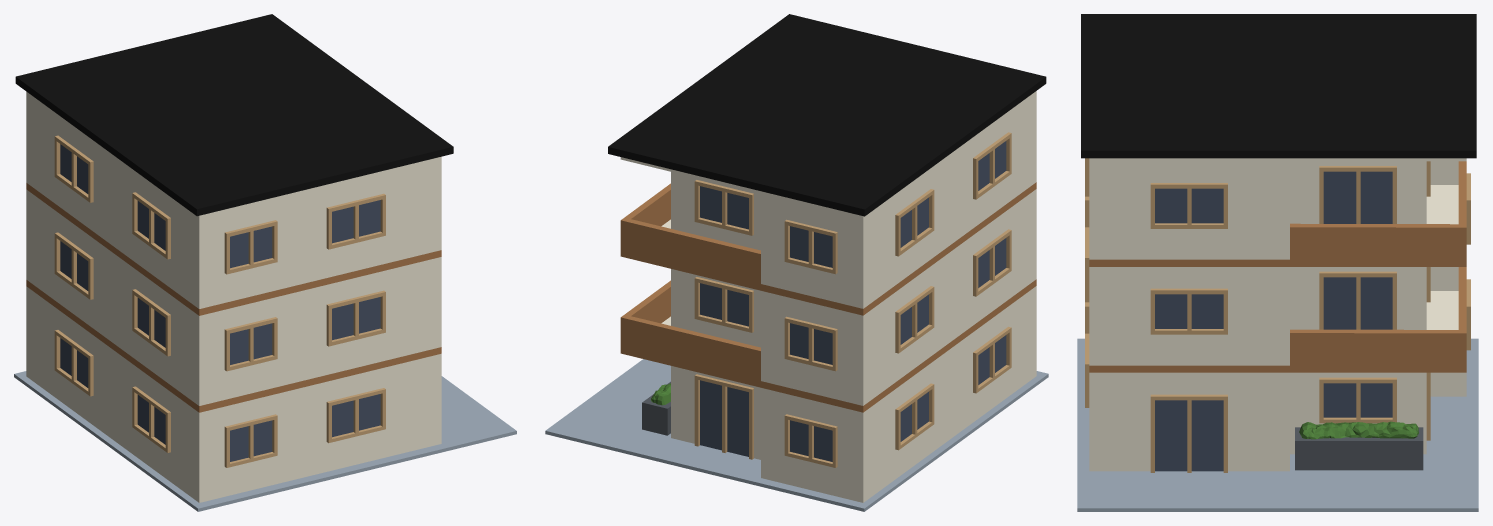
The model's file is apart4.glb.
The picture shows the model from 3 angles, left to right: view 1: azimuth 30°, elevation 25°; view 2: azimuth 150°, elevation 25°; view 3: azimuth 270°, elevation 25°; orthographic projection. The views are drawn at different scales.
Visible parts, largest first — view 1: apart4; view 2: apart4; view 3: apart4.
Boxes of the visible parts, x1,y1,x2,y2 form: apart4: [14, 14, 516, 511]; apart4: [545, 14, 1048, 511]; apart4: [1077, 14, 1478, 511].
Size of the model in its own units: 10 by 9.03 by 10.
